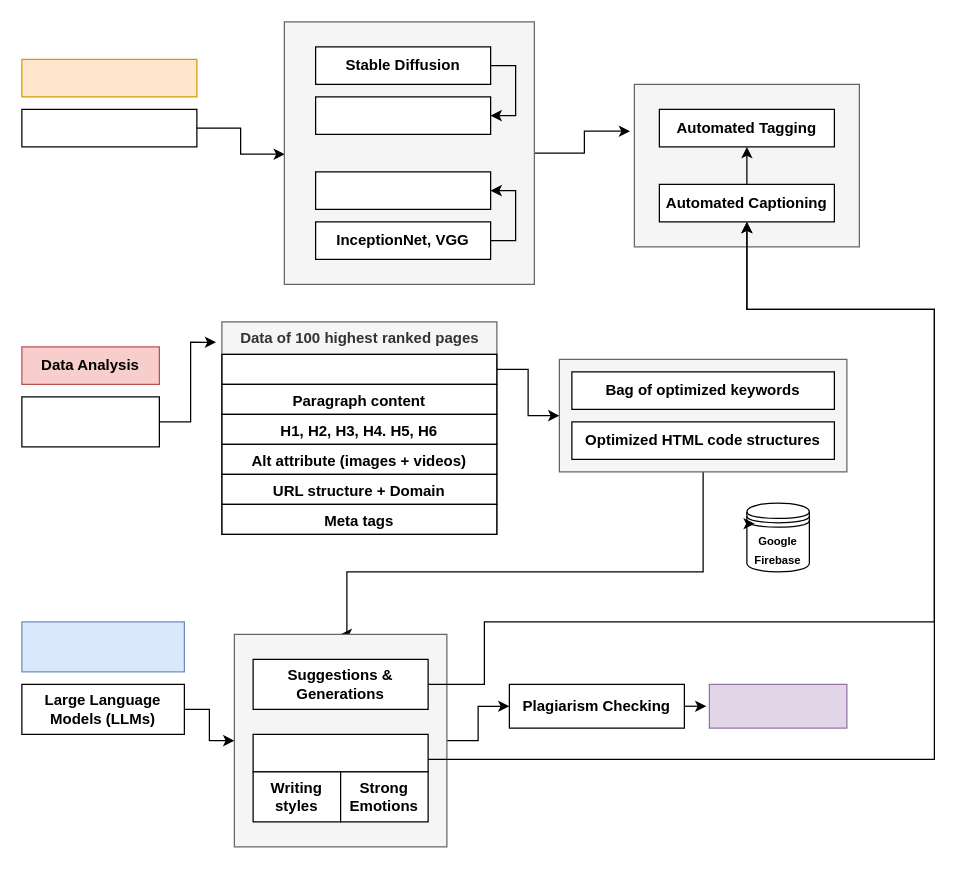
This 966x869 diagram has some shape labels left out. Here are the shapes that lost their labels. From the top down, the centre of each, then its label:
At [109,77]: "Computer Vision".
At [109,127]: "Image Optimzation".
At [402,115]: "Image Generation".
At [402,190]: "Image Analyser".
At [359,368]: "Page title".
At [90,421]: "Automated data scrapping".
At [102,646]: "Natural Language Processing".
At [777,705]: "Organic Results".
At [340,752]: "Sentiment Analysis".
